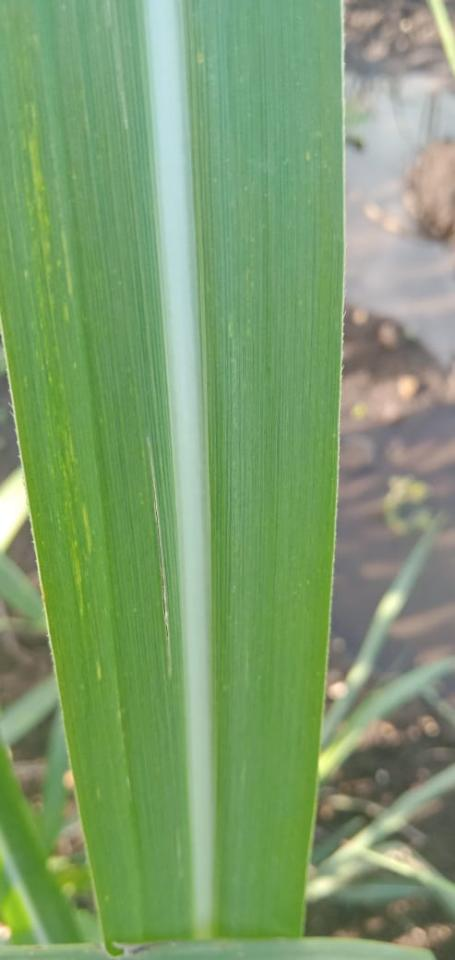Healthy: (0, 0, 343, 945)
